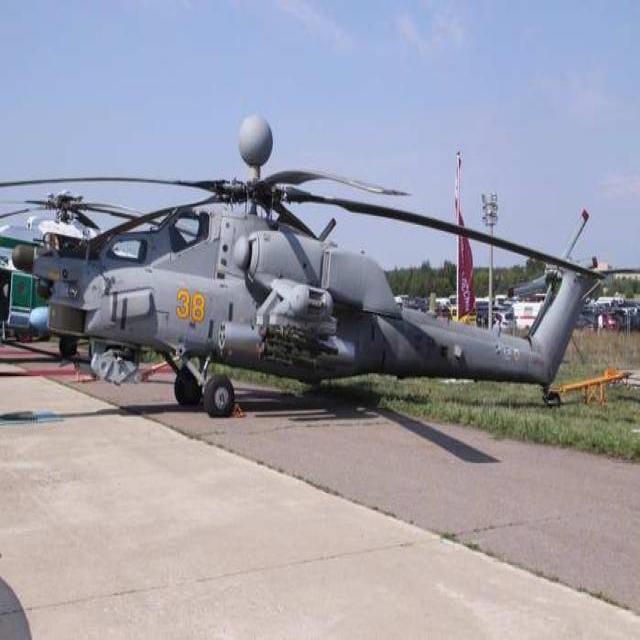MIL_HELO: (1, 115, 604, 418)
